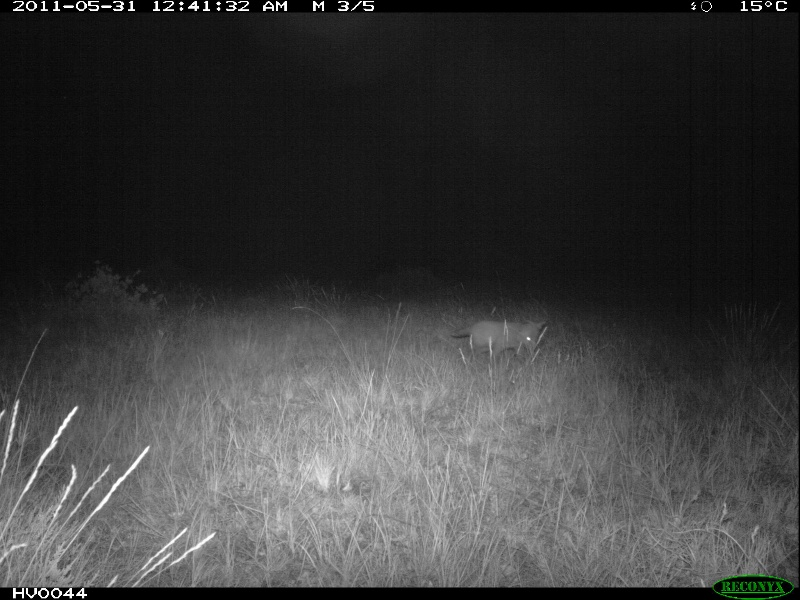fox: (446, 319, 552, 359)
